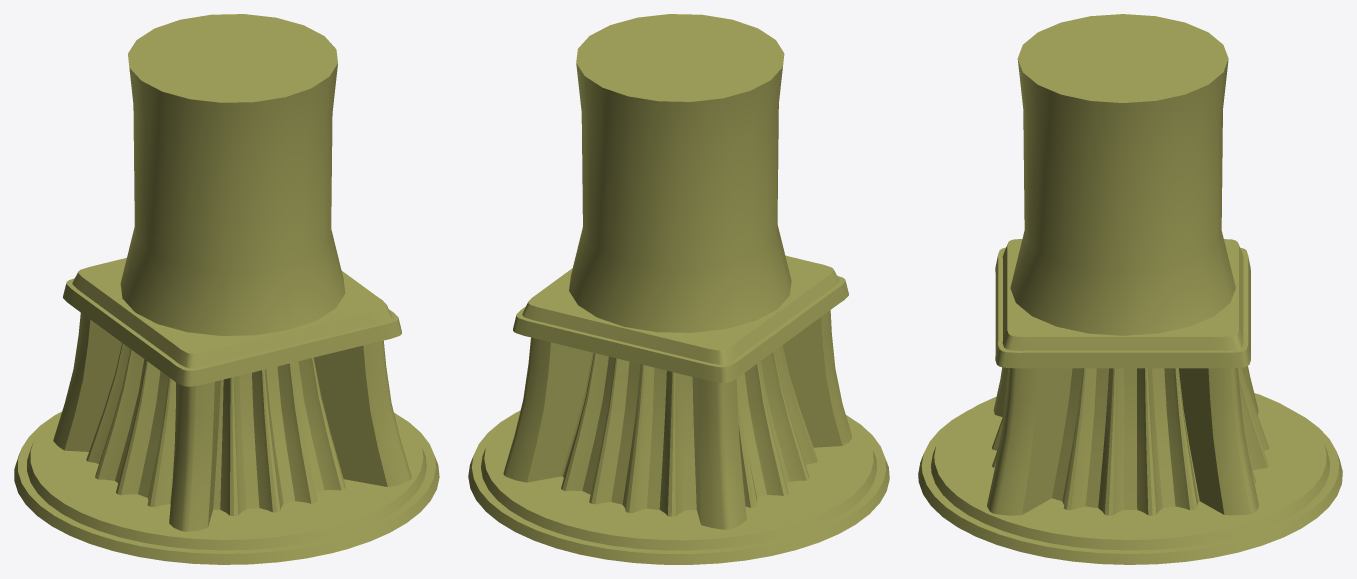
Rendered from SM_Colonne_Jade.fbx.
3 renders of one model, left to right at view 1: azimuth 30°, elevation 25°; view 2: azimuth 150°, elevation 25°; view 3: azimuth 270°, elevation 25°, orthographic.
Parts seen in each view (by area): view 1: SM_Colonne_Jade; view 2: SM_Colonne_Jade; view 3: SM_Colonne_Jade.
Boxes of the visible parts, <box> form: SM_Colonne_Jade: <box>14,14,439,564</box>; SM_Colonne_Jade: <box>468,14,889,564</box>; SM_Colonne_Jade: <box>918,14,1342,564</box>.
Size of the model in its own units: 268 by 291 by 268.
